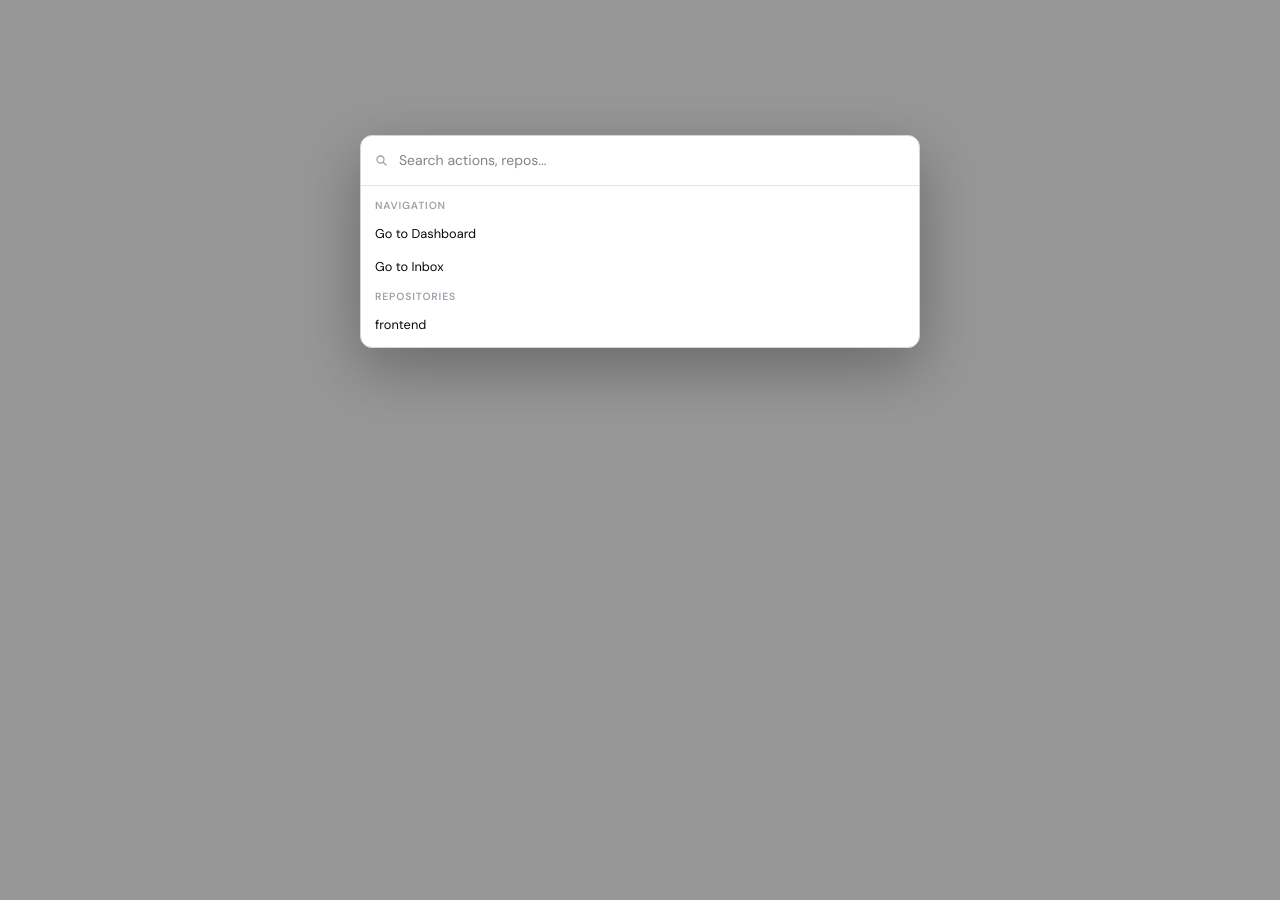
Test case: CommandPalette › filters actions as user types
This screenshot has width=1280, height=900.
Step 1. Type "inbox" into the field → (647, 160), box [389,136,905,185]
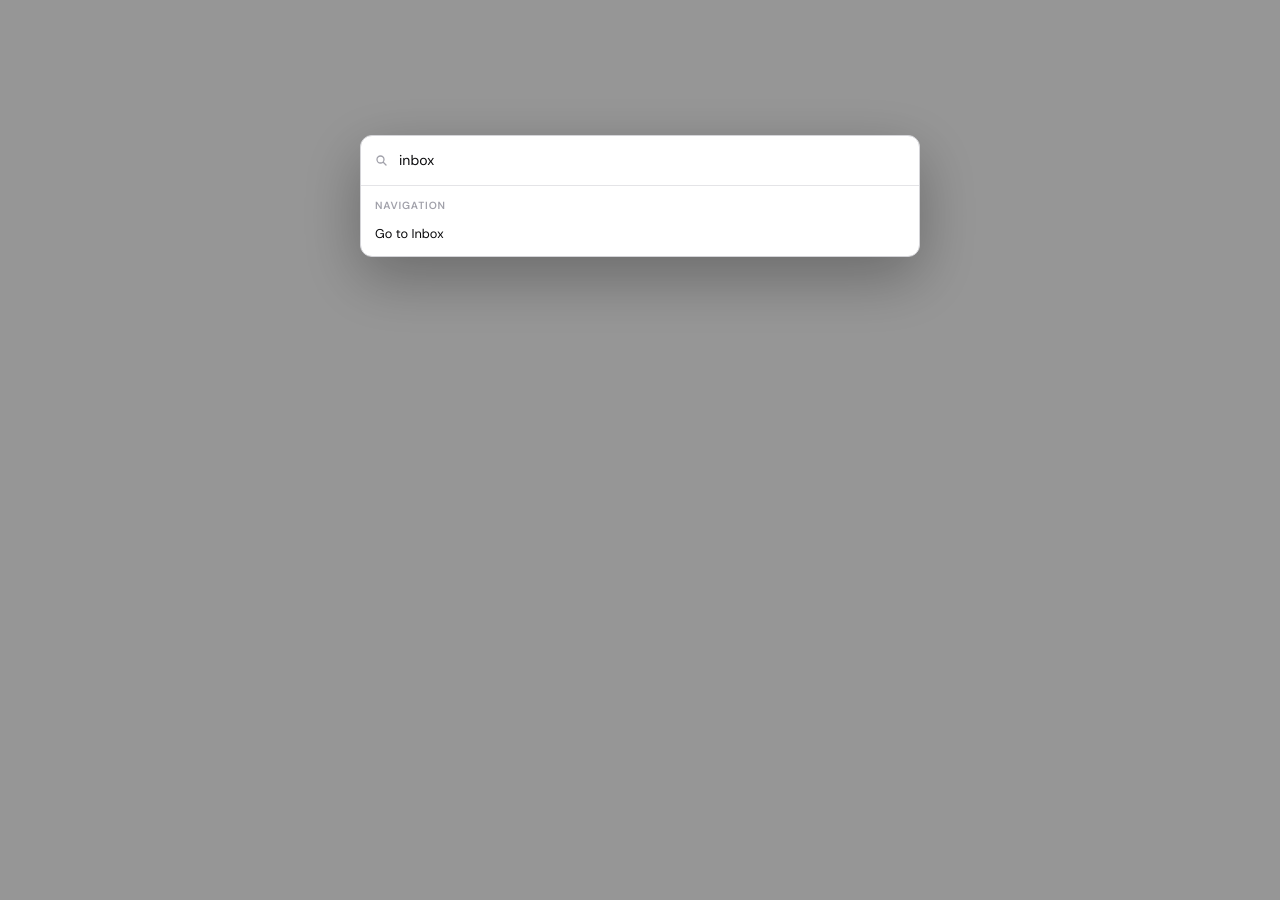
Expected: the text "Go to Inbox" is shown, [375,224,444,243]
Result: the button "frontend" is gone
